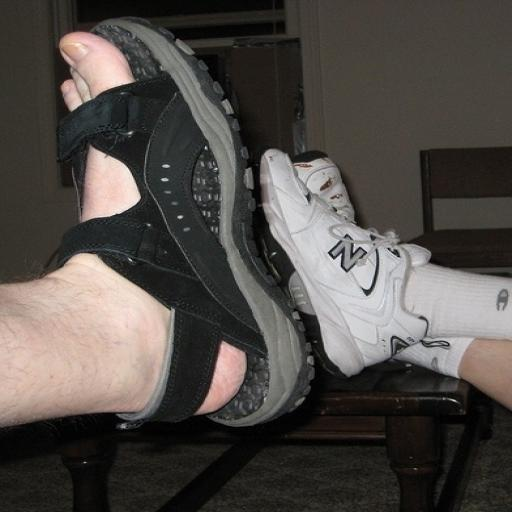sandal: (59, 18, 313, 428)
shoe: (260, 150, 427, 375), (292, 151, 355, 222), (292, 151, 355, 221)
